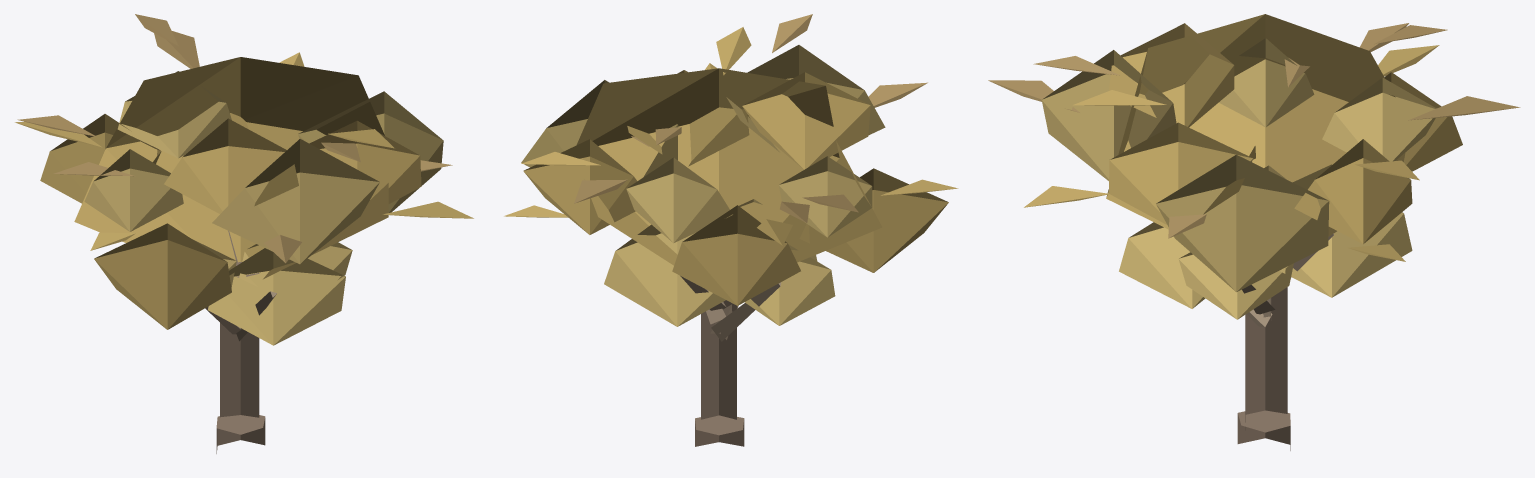
File: shu.wujiaofeng__autumn.glb
3 views of the same model, side by side, from view 1: azimuth 30°, elevation 25°; view 2: azimuth 150°, elevation 25°; view 3: azimuth 270°, elevation 25° (orthographic). The views are drawn at different scales.
Visible parts, largest first — view 1: shu.wujiaofeng__autumn; view 2: shu.wujiaofeng__autumn; view 3: shu.wujiaofeng__autumn.
Part boxes in pixels (<box>): shu.wujiaofeng__autumn: <box>15,14,473,453</box>; shu.wujiaofeng__autumn: <box>504,14,958,446</box>; shu.wujiaofeng__autumn: <box>988,14,1520,450</box>.
Bounding box in the file's own units: 11.11 × 10.46 × 12.31.
